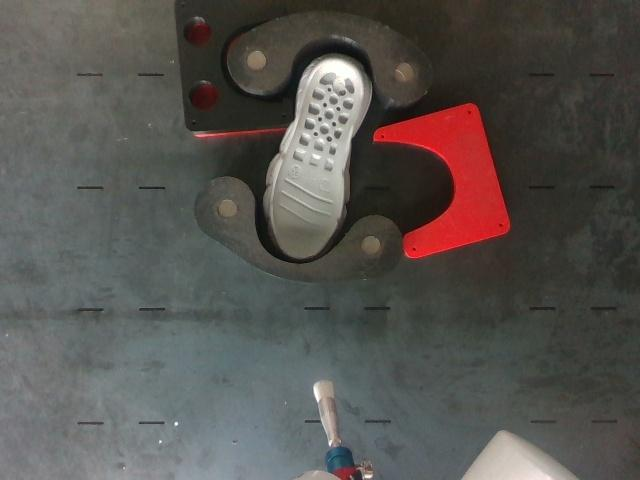shoes: (273, 59, 363, 259)
